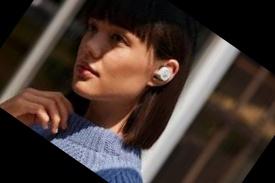earphone: (146, 54, 182, 94)
